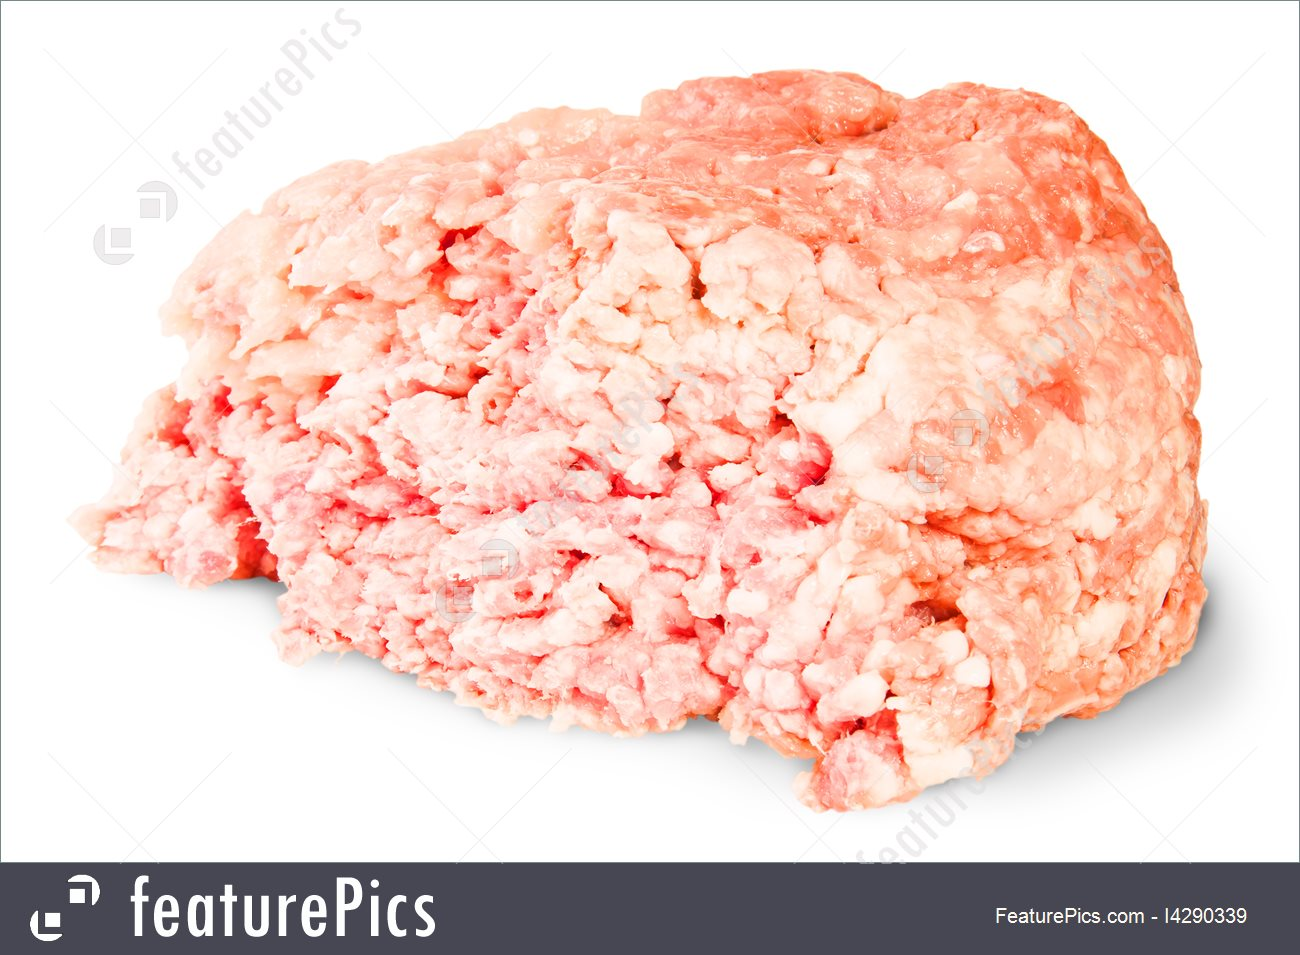ground_beef: (74, 93, 1225, 734)
